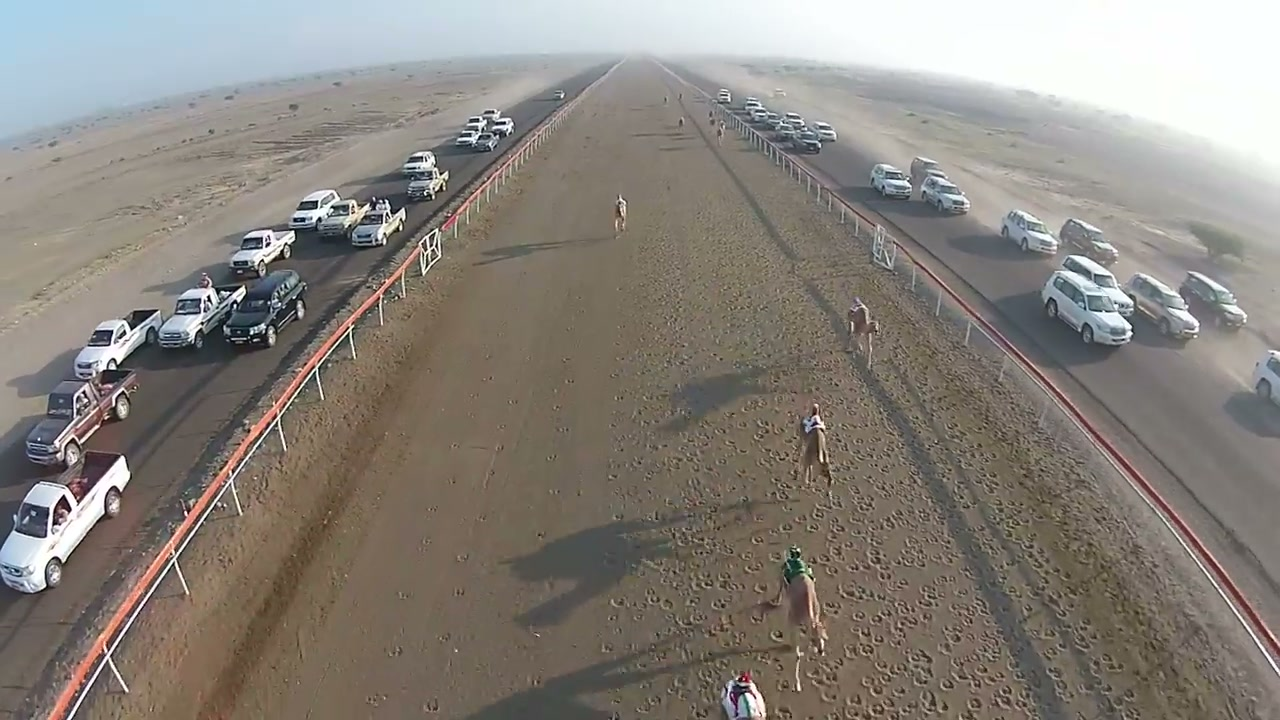animal_foot_print: (837, 378, 1171, 709), (664, 264, 777, 671)
